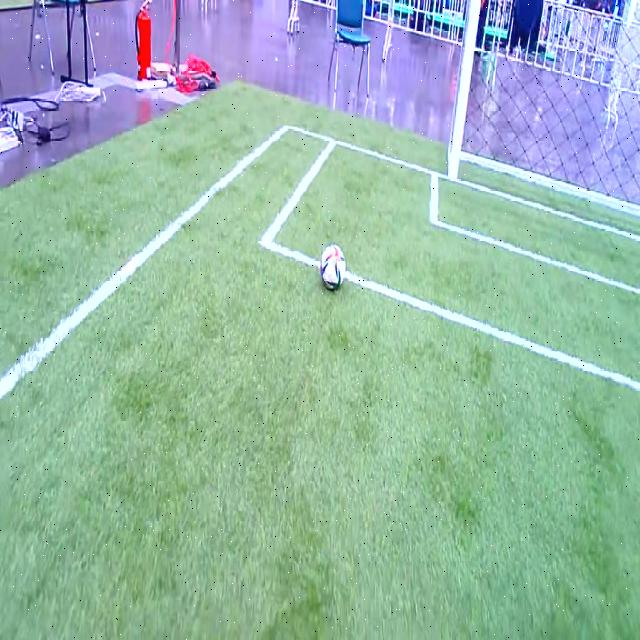ball: (320, 245, 345, 290)
